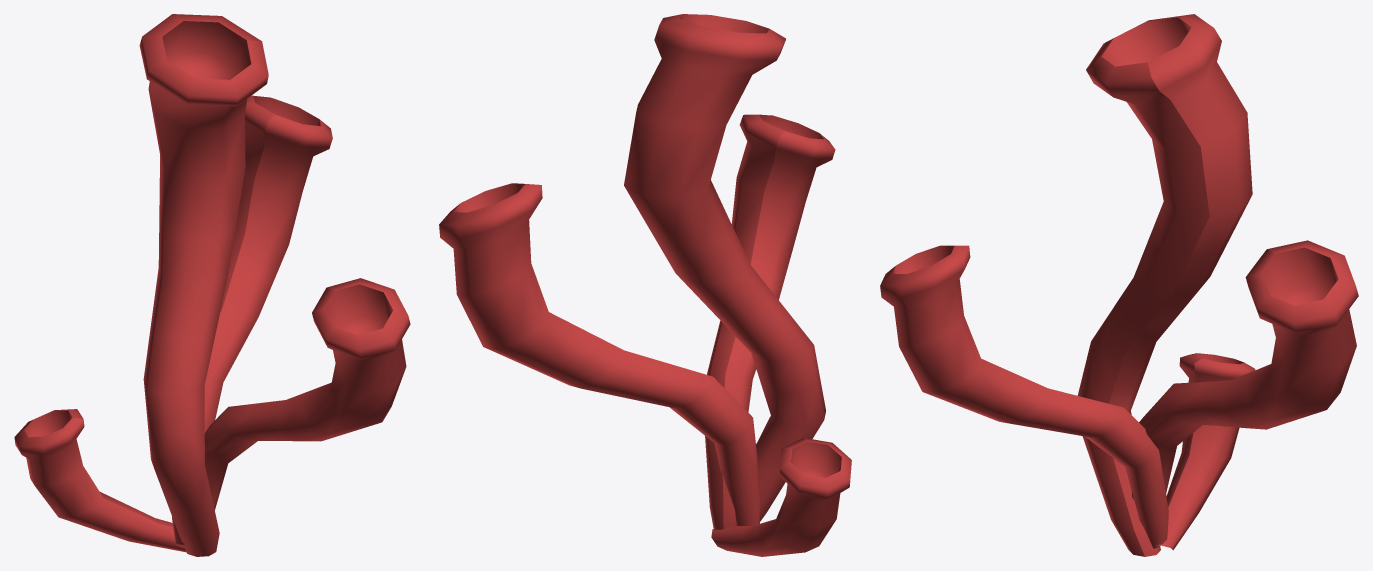
Rendered from red-coral.glb.
The picture shows the model from 3 angles, left to right: view 1: azimuth 30°, elevation 25°; view 2: azimuth 150°, elevation 25°; view 3: azimuth 270°, elevation 25°; orthographic projection. The views are drawn at different scales.
Parts seen in each view (by area): view 1: node_id61; view 2: node_id61; view 3: node_id61.
Part boxes in pixels (bbox=[...]): node_id61: bbox=[14, 14, 410, 556]; node_id61: bbox=[439, 14, 851, 556]; node_id61: bbox=[880, 14, 1358, 556].
Size of the model in its own units: 2.71 by 3.82 by 3.13.
